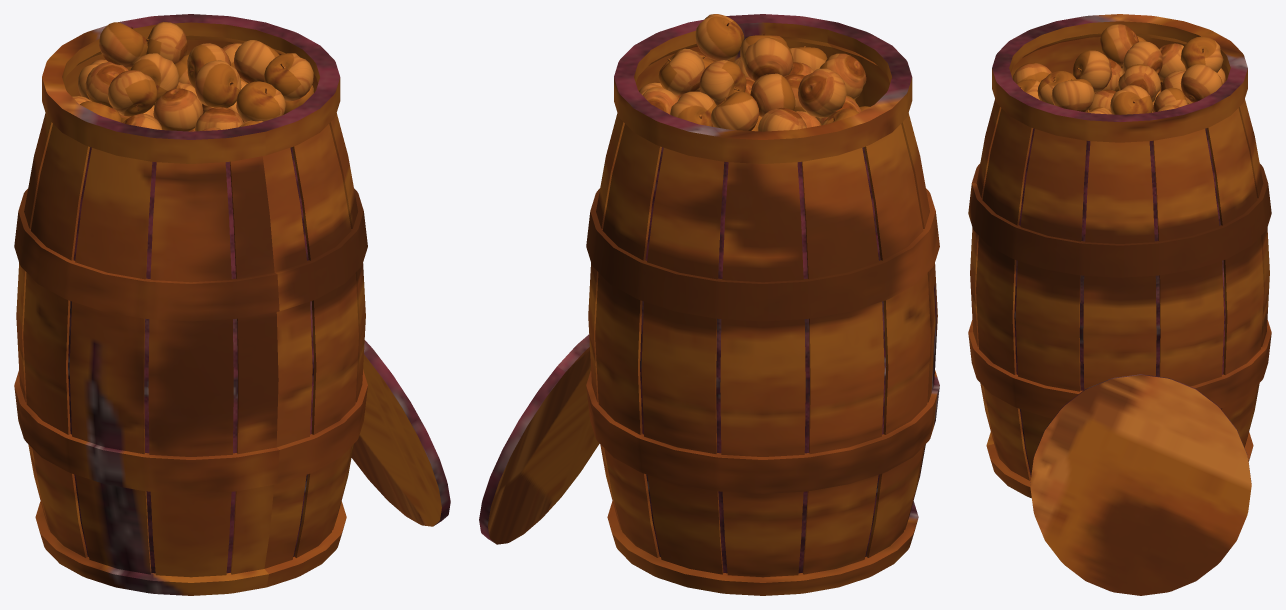
Rendered from fruit barrel_6.fbx.
3 renders of one model, left to right at view 1: azimuth 30°, elevation 25°; view 2: azimuth 150°, elevation 25°; view 3: azimuth 270°, elevation 25°, orthographic. The views are drawn at different scales.
Parts seen in each view (by area): view 1: Circle.010, Circle.013, Plane.1259, Plane.1263, Plane.1261, Plane.1260, Plane.1266, Plane.1264, Plane.1257, Plane.1267, Plane.1268, Plane.1233 (+2 smaller); view 2: Circle.010, Circle.013, Plane.1259, Plane.1261, Plane.1263, Plane.1257, Plane.1264, Plane.1251, Plane.1268, Plane.1267, Plane.1247, Plane.1233 (+1 smaller); view 3: Circle.010, Circle.013, Plane.1263, Plane.1261, Plane.1267, Plane.1264, Plane.1259, Plane.1257, Plane.1251, Plane.1268, Plane.1233, Plane.1266 (+2 smaller).
Part boxes in pixels (bbox=[...]): Circle.010: bbox=[14, 14, 367, 595]; Circle.013: bbox=[351, 340, 450, 526]; Plane.1259: bbox=[108, 70, 157, 116]; Plane.1263: bbox=[195, 60, 241, 107]; Plane.1261: bbox=[264, 53, 313, 101]; Plane.1260: bbox=[153, 88, 203, 131]; Plane.1266: bbox=[236, 81, 285, 122]; Plane.1264: bbox=[99, 22, 147, 67]; Plane.1257: bbox=[234, 40, 279, 83]; Plane.1267: bbox=[146, 22, 187, 63]; Plane.1268: bbox=[130, 53, 178, 102]; Plane.1233: bbox=[85, 62, 128, 108]; Circle.010: bbox=[586, 14, 939, 595]; Circle.013: bbox=[479, 334, 599, 544]; Plane.1259: bbox=[798, 68, 846, 118]; Plane.1261: bbox=[695, 14, 744, 60]; Plane.1263: bbox=[743, 37, 793, 81]; Plane.1257: bbox=[658, 48, 705, 95]; Plane.1264: bbox=[710, 91, 759, 130]; Plane.1251: bbox=[699, 60, 746, 105]; Plane.1268: bbox=[750, 73, 795, 117]; Plane.1267: bbox=[670, 91, 716, 126]; Plane.1247: bbox=[820, 53, 866, 99]; Plane.1233: bbox=[758, 108, 806, 131]; Circle.010: bbox=[968, 14, 1271, 498]; Circle.013: bbox=[1030, 374, 1251, 595]; Plane.1263: bbox=[1073, 50, 1112, 92]; Plane.1261: bbox=[1051, 78, 1094, 111]; Plane.1267: bbox=[1180, 64, 1222, 102]; Plane.1264: bbox=[1180, 36, 1223, 72]; Plane.1259: bbox=[1100, 24, 1138, 66]; Plane.1257: bbox=[1110, 85, 1152, 114]; Plane.1251: bbox=[1118, 64, 1160, 101]; Plane.1268: bbox=[1123, 41, 1162, 74]; Plane.1233: bbox=[1158, 43, 1185, 82]; Plane.1266: bbox=[1037, 71, 1076, 104].
Bounding box in the file's own units: 45.26 × 58.63 × 35.65.
